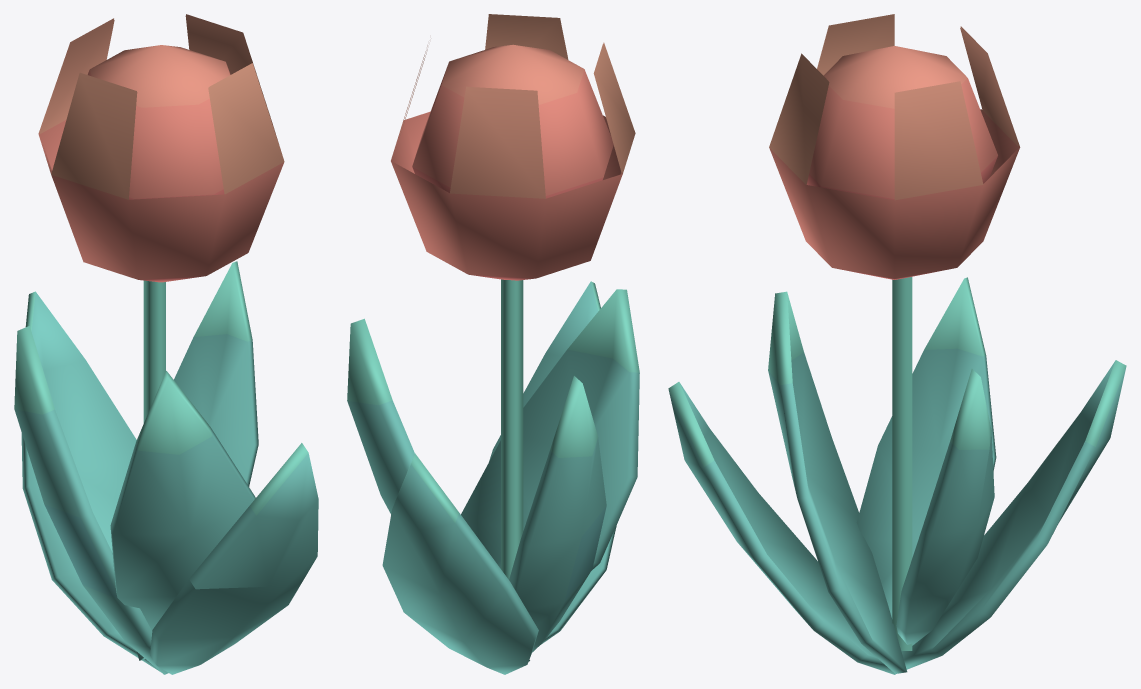
File: tulip_red.glb
3 views of the same model, side by side, from view 1: azimuth 30°, elevation 25°; view 2: azimuth 150°, elevation 25°; view 3: azimuth 270°, elevation 25° (orthographic).
Visible parts, largest first — view 1: Tulip_Red.001; view 2: Tulip_Red.001; view 3: Tulip_Red.001.
Part boxes in pixels (x1,y1,x2,y2): Tulip_Red.001: (14, 14, 318, 674); Tulip_Red.001: (347, 14, 639, 674); Tulip_Red.001: (668, 14, 1126, 674).
Size of the model in its own units: 0.1734 by 0.442 by 0.2942.
